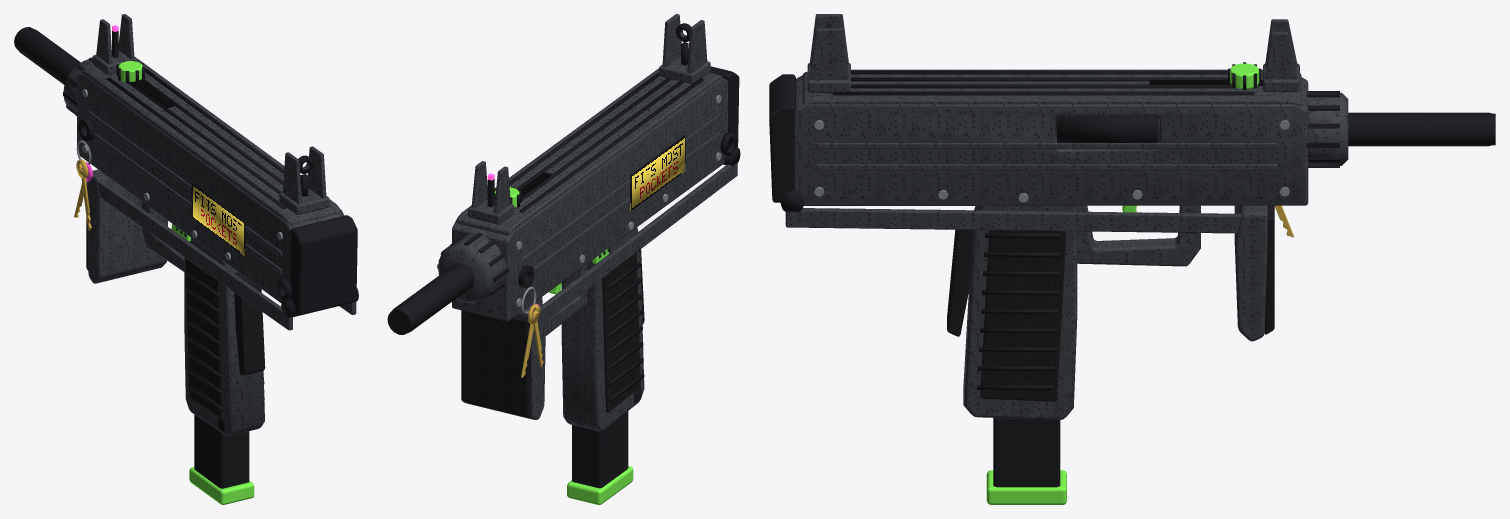
Rendered from w_smg_uzi.glb.
3 renders of one model, left to right at view 1: azimuth 30°, elevation 25°; view 2: azimuth 150°, elevation 25°; view 3: azimuth 270°, elevation 25°, orthographic. The views are drawn at different scales.
Parts seen in each view (by area): view 1: uzi_body_wzA, uzi_body_wzB, uzi_body_wzN; view 2: uzi_body_wzA, uzi_body_wzB, uzi_body_wzN; view 3: uzi_body_wzA, uzi_body_wzB.
Boxes of the visible parts, <box> form: uzi_body_wzA: <box>77,14,358,504</box>; uzi_body_wzB: <box>14,27,282,260</box>; uzi_body_wzN: <box>74,25,245,256</box>; uzi_body_wzA: <box>452,14,740,504</box>; uzi_body_wzB: <box>387,95,721,334</box>; uzi_body_wzN: <box>487,135,685,377</box>; uzi_body_wzA: <box>769,14,1308,504</box>; uzi_body_wzB: <box>814,64,1495,202</box>.
Size of the model in its own units: 0.0882 by 0.4539 by 0.6292.
Materials: 10 (3 with a texture image).
